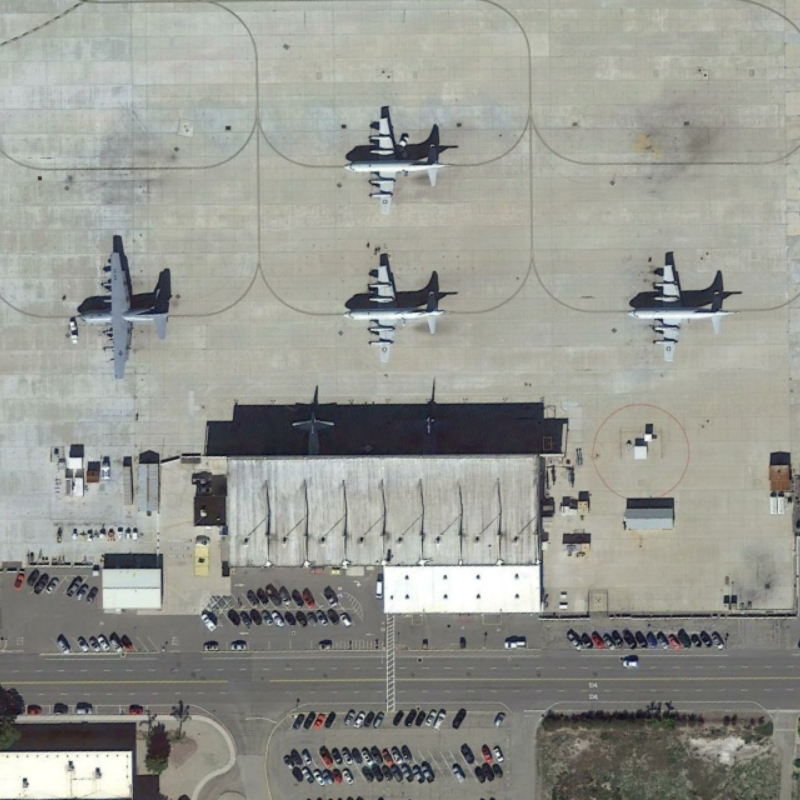A2: (76, 246, 175, 387)
A9: (623, 255, 743, 376), (337, 247, 449, 372), (337, 107, 455, 221)
